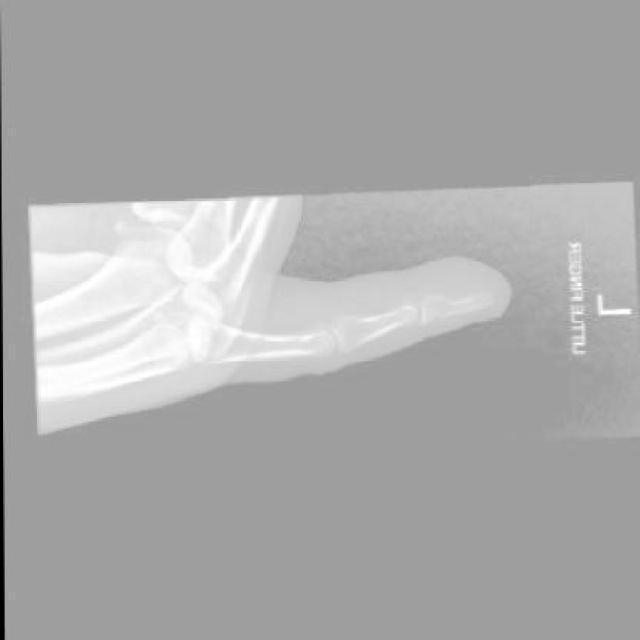Fracture: (431, 293, 462, 322)
